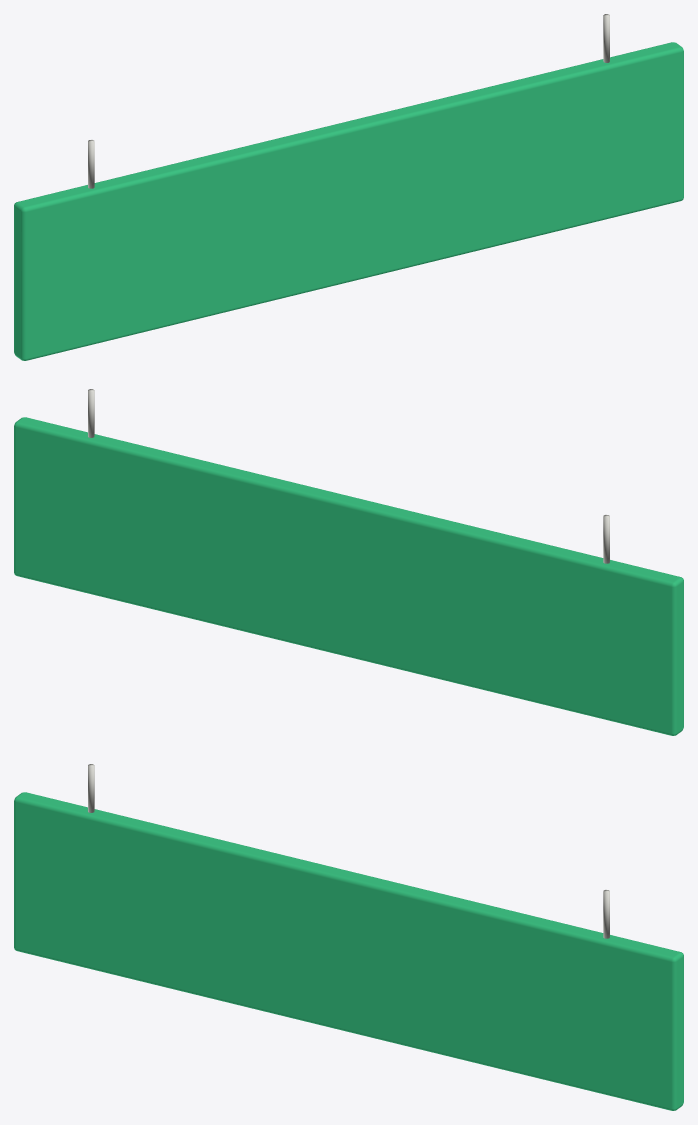
Rendered from hanging_sign.glb.
3 renders of one model, top to bottom at view 1: azimuth 30°, elevation 25°; view 2: azimuth 150°, elevation 25°; view 3: azimuth 330°, elevation 25°, orthographic.
Parts seen in each view (by area): view 1: hanging_sign; view 2: hanging_sign; view 3: hanging_sign.
Part boxes in pixels (bbox=[...]): hanging_sign: bbox=[14, 14, 683, 360]; hanging_sign: bbox=[14, 389, 683, 735]; hanging_sign: bbox=[14, 764, 683, 1110].
Size of the model in its own units: 1.8 by 0.52 by 0.05.
